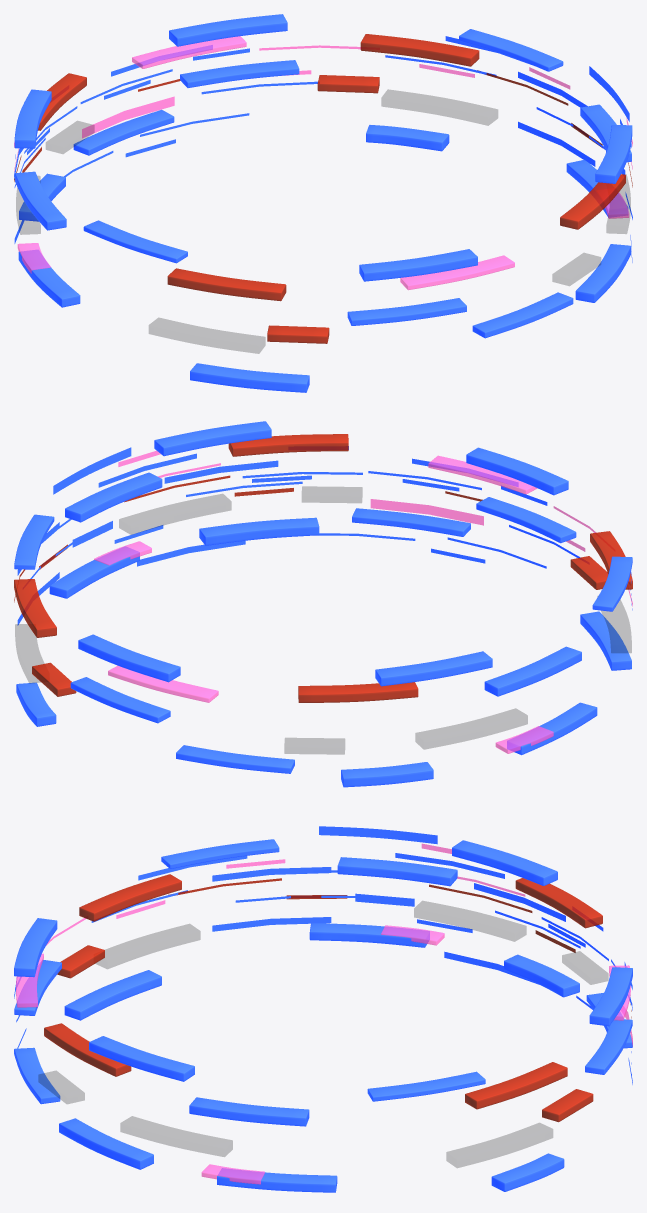
File: WHDv-fish-tank.glb
The picture shows the model from 3 angles, top to bottom: view 1: azimuth 30°, elevation 25°; view 2: azimuth 150°, elevation 25°; view 3: azimuth 270°, elevation 25°; orthographic projection.
Parts seen in each view (by area): view 1: Cylinder.004, Cylinder, Cylinder.007, Cylinder.045, Cylinder.005, Cylinder.044, Cylinder.029, Cylinder.001, Cylinder.014, Cylinder.043, Cylinder.018, Cylinder.032 (+7 smaller); view 2: Cylinder.014, Cylinder.018, Cylinder.035, Cylinder, Cylinder.048, Cylinder.032, Cylinder.043, Cylinder.044, Cylinder.005, Cylinder.001, Cylinder.045, Cylinder.029 (+11 smaller); view 3: Cylinder.032, Cylinder.043, Cylinder.035, Cylinder.014, Cylinder.004, Cylinder.007, Cylinder.048, Cylinder.045, Cylinder.029, Cylinder.018, Cylinder, Cylinder.005 (+11 smaller).
Part boxes in pixels (bbox=[...]): Cylinder.004: bbox=[167, 34, 479, 301]; Cylinder: bbox=[169, 14, 477, 281]; Cylinder.007: bbox=[149, 89, 497, 353]; Cylinder.045: bbox=[190, 125, 449, 392]; Cylinder.005: bbox=[180, 60, 466, 325]; Cylinder.044: bbox=[73, 109, 573, 338]; Cylinder.029: bbox=[83, 29, 563, 263]; Cylinder.001: bbox=[132, 36, 514, 290]; Cylinder.014: bbox=[14, 89, 632, 183]; Cylinder.043: bbox=[18, 160, 628, 307]; Cylinder.018: bbox=[38, 73, 625, 229]; Cylinder.032: bbox=[15, 104, 631, 230]; Cylinder.014: bbox=[154, 421, 492, 686]; Cylinder.018: bbox=[228, 434, 418, 702]; Cylinder.035: bbox=[119, 494, 527, 749]; Cylinder: bbox=[78, 447, 568, 682]; Cylinder.048: bbox=[199, 517, 433, 787]; Cylinder.032: bbox=[65, 472, 581, 696]; Cylinder.043: bbox=[49, 546, 597, 755]; Cylinder.044: bbox=[176, 508, 470, 773]; Cylinder.005: bbox=[70, 497, 576, 723]; Cylinder.001: bbox=[108, 455, 537, 702]; Cylinder.045: bbox=[16, 611, 631, 726]; Cylinder.029: bbox=[14, 514, 632, 611]; Cylinder.032: bbox=[189, 857, 457, 1126]; Cylinder.043: bbox=[217, 923, 429, 1192]; Cylinder.035: bbox=[120, 901, 526, 1156]; Cylinder.014: bbox=[89, 840, 557, 1081]; Cylinder.004: bbox=[79, 874, 567, 1109]; Cylinder.007: bbox=[96, 924, 552, 1167]; Cylinder.048: bbox=[59, 954, 579, 1169]; Cylinder.045: bbox=[64, 970, 564, 1191]; Cylinder.029: bbox=[161, 839, 485, 1101]; Cylinder.018: bbox=[44, 878, 602, 1076]; Cylinder: bbox=[14, 918, 632, 1026]; Cylinder.005: bbox=[14, 960, 632, 1074].
Bounding box in the file's own units: 44.32 × 10.29 × 44.32.
